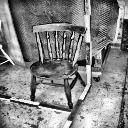chair_success: (24, 20, 89, 112)
